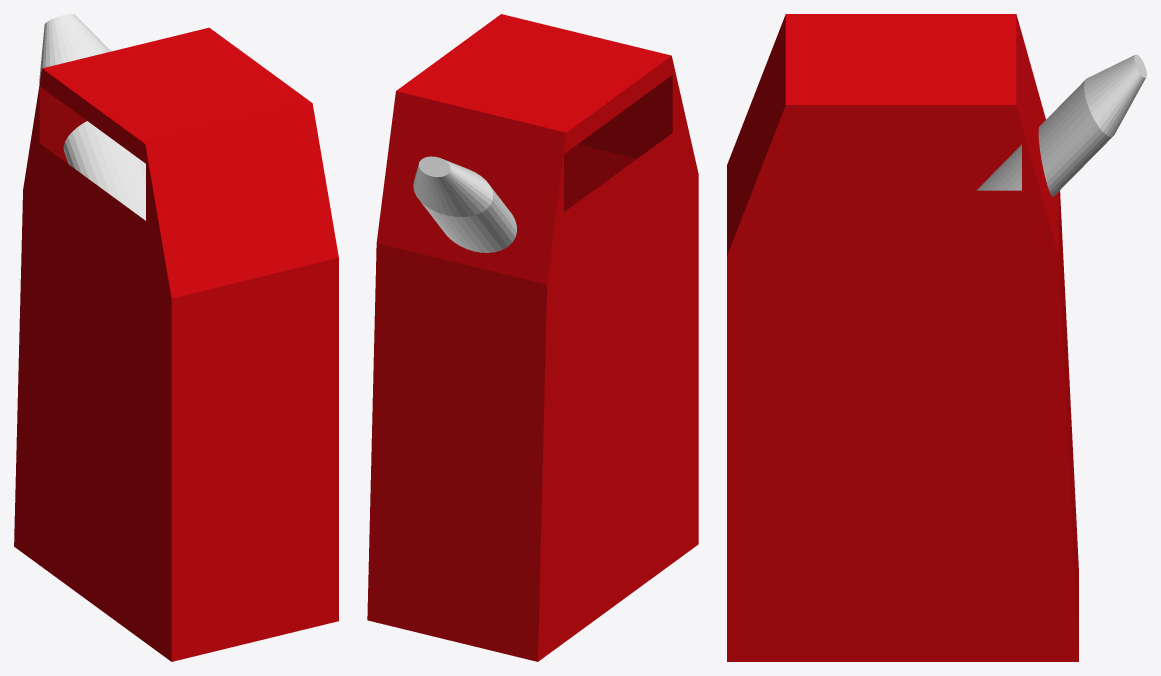
File: GasCan.fbx
3 renders of one model, left to right at view 1: azimuth 30°, elevation 25°; view 2: azimuth 150°, elevation 25°; view 3: azimuth 270°, elevation 25°, orthographic. The views are drawn at different scales.
Parts seen in each view (by area): view 1: Cube; view 2: Cube; view 3: Cube.
Part boxes in pixels (x1,y1,x2,y2): Cube: (14,14,338,661); Cube: (367,14,698,661); Cube: (727,14,1146,661).
Size of the model in its own units: 37.77 by 108 by 73.53.
